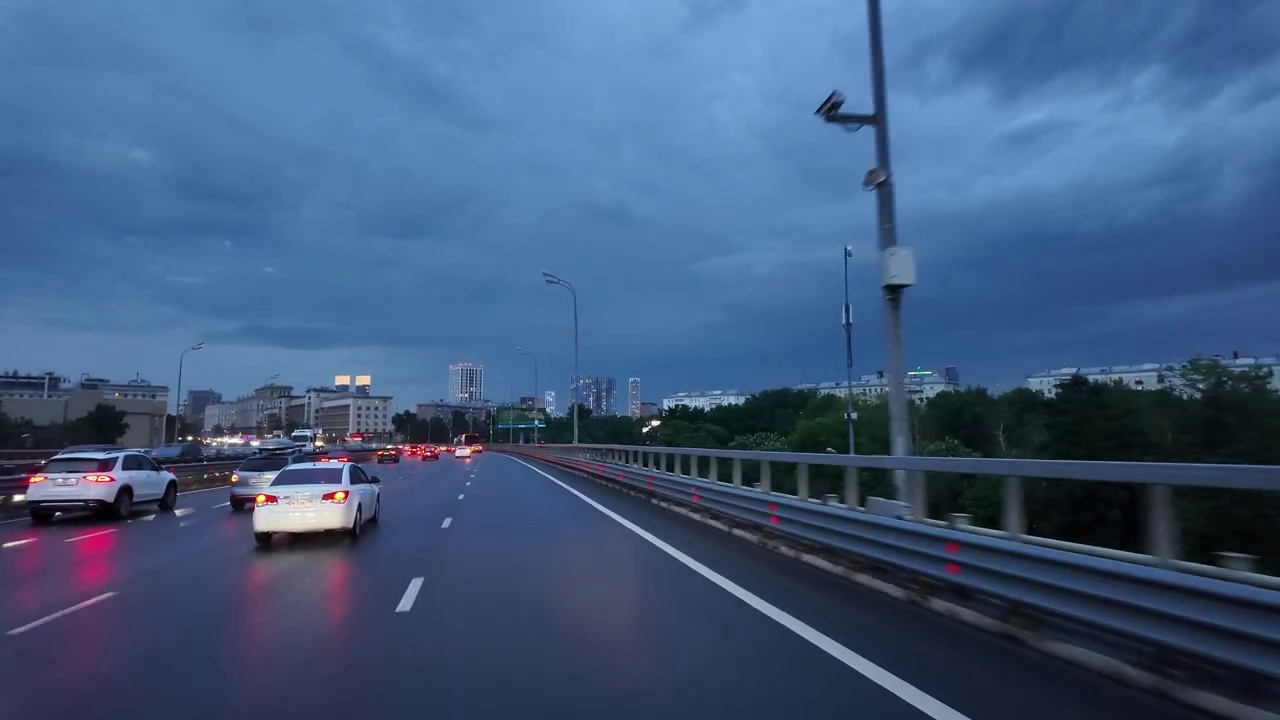apagada: (811, 92, 851, 132), (539, 266, 563, 291)
